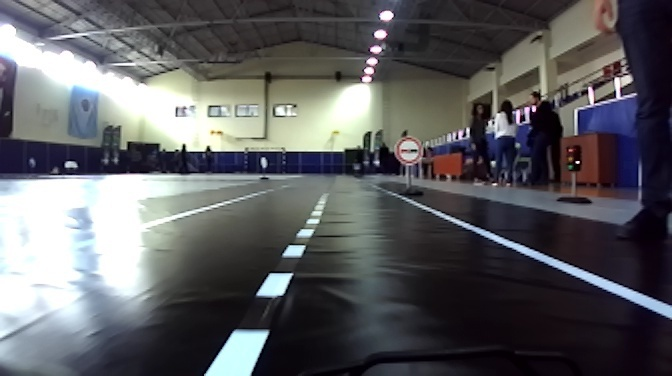sollama_yasak: (394, 138, 420, 166)
